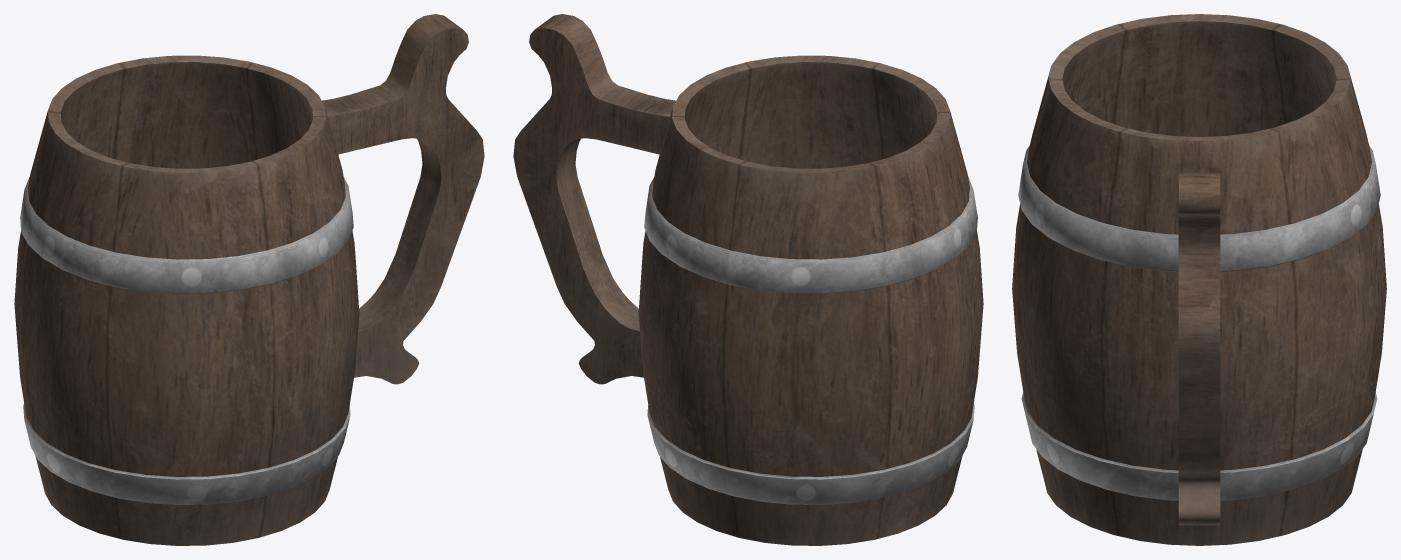
The model's file is beer_mug.glb.
3 renders of one model, left to right at view 1: azimuth 30°, elevation 25°; view 2: azimuth 150°, elevation 25°; view 3: azimuth 270°, elevation 25°, orthographic. The views are drawn at different scales.
Visible parts, largest first — view 1: BeerMug; view 2: BeerMug; view 3: BeerMug.
Part boxes in pixels (x1,y1,x2,y2): BeerMug: (14, 14, 484, 545); BeerMug: (513, 14, 983, 545); BeerMug: (1012, 14, 1386, 545).
Size of the model in its own units: 0.26 by 0.2284 by 0.1778.
Materials: 1 (1 with a texture image).
